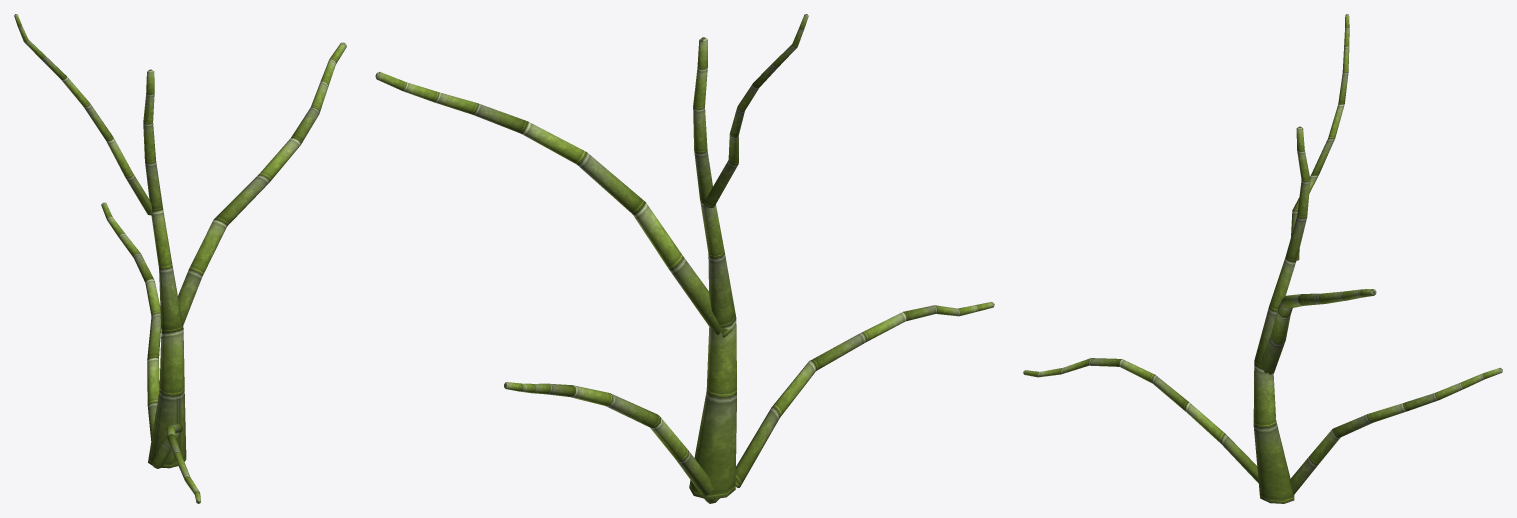
The model's file is BambooSet_part_34.fbx.
The picture shows the model from 3 angles, left to right: view 1: azimuth 30°, elevation 25°; view 2: azimuth 150°, elevation 25°; view 3: azimuth 270°, elevation 25°; orthographic projection. The views are drawn at different scales.
Visible parts, largest first — view 1: Object_59.001; view 2: Object_59.001; view 3: Object_59.001.
Part boxes in pixels (box(x1,y1,x2,y2)): Object_59.001: box(14, 14, 346, 503); Object_59.001: box(375, 14, 994, 503); Object_59.001: box(1023, 14, 1502, 503).
Bounding box in the file's own units: 583 × 735 × 733.
